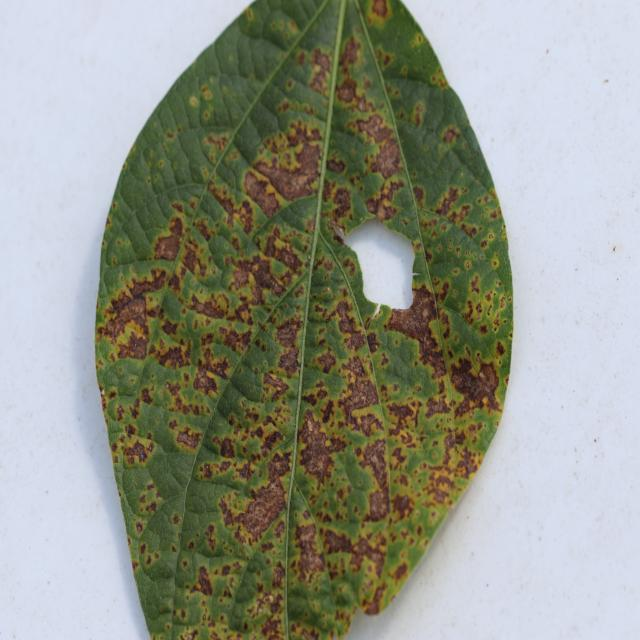Bacterial_Blight: (413, 177, 511, 396), (300, 434, 376, 621), (102, 267, 182, 376), (242, 194, 325, 290), (426, 107, 501, 209), (359, 4, 443, 92), (225, 14, 299, 89), (178, 473, 242, 553), (233, 329, 290, 399), (328, 130, 381, 200), (240, 573, 284, 634), (299, 416, 334, 485), (120, 463, 161, 517), (358, 437, 390, 496), (244, 171, 282, 217), (318, 316, 354, 363), (231, 116, 264, 162), (407, 356, 436, 391), (354, 411, 384, 441), (386, 400, 418, 428), (285, 123, 320, 147), (369, 304, 394, 333), (267, 450, 292, 478), (339, 35, 362, 65), (336, 79, 357, 102), (97, 382, 109, 420), (320, 398, 335, 423), (200, 85, 213, 101), (246, 8, 254, 22), (189, 95, 198, 107)
Soybean: (93, 0, 515, 640)
